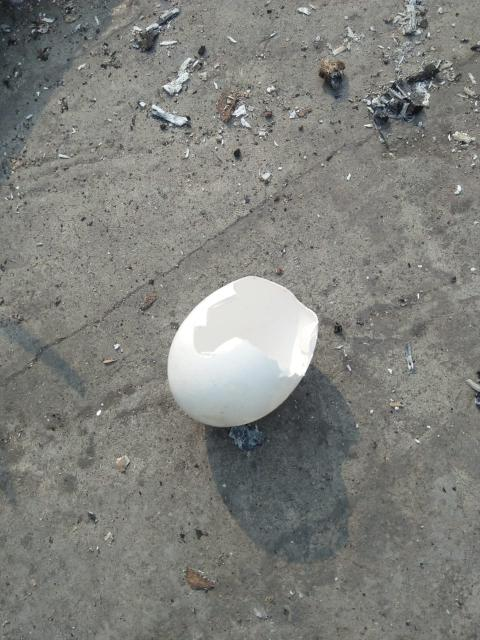Roto: (166, 274, 319, 428)
